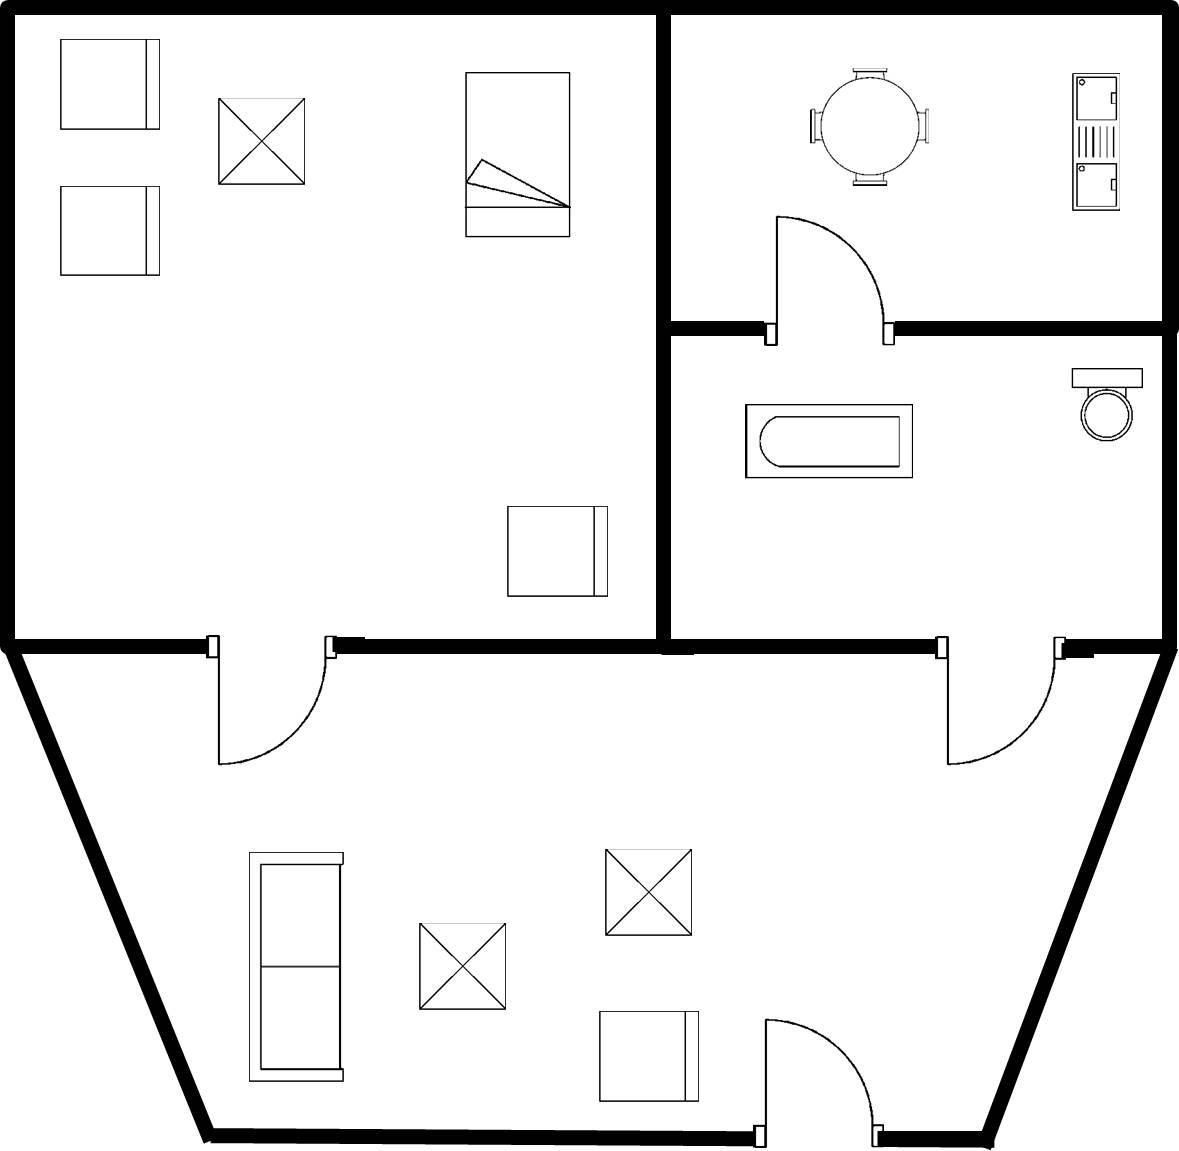sink: (1061, 65, 1128, 220)
